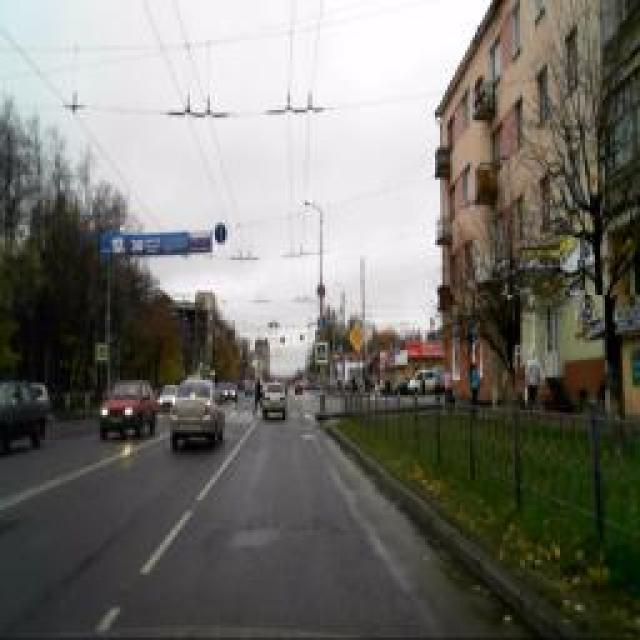sign: (214, 223, 226, 245)
